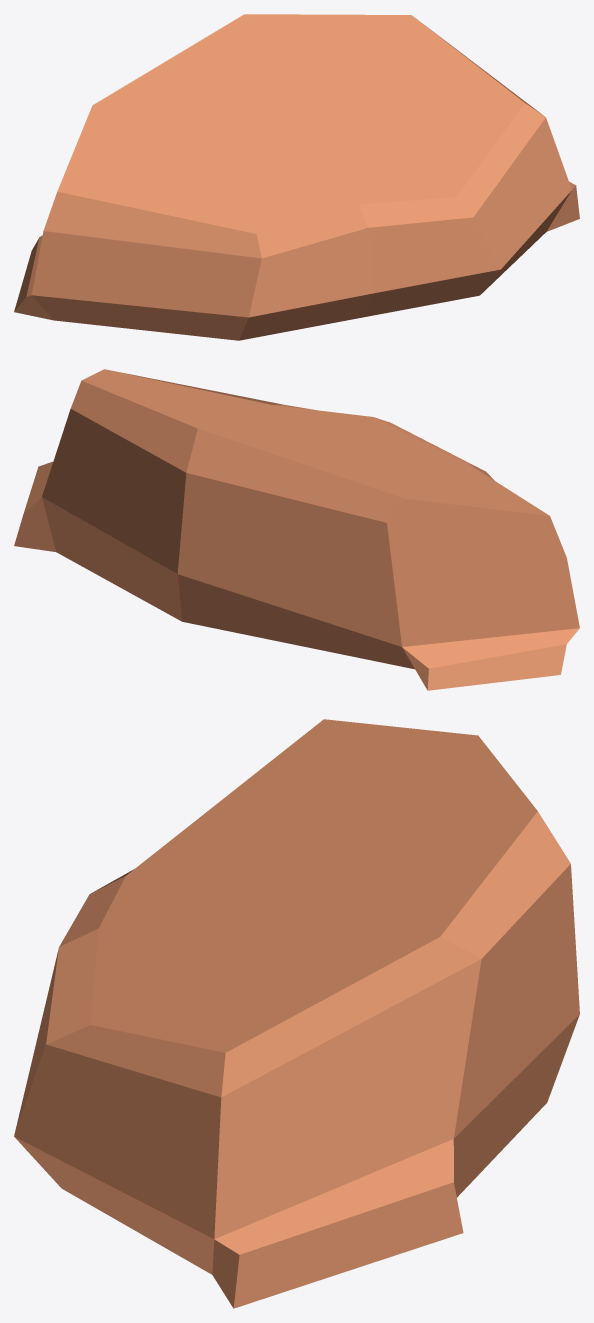
The model's file is Stone003.fbx.
3 renders of one model, top to bottom at view 1: azimuth 30°, elevation 25°; view 2: azimuth 150°, elevation 25°; view 3: azimuth 270°, elevation 25°, orthographic. The views are drawn at different scales.
Parts seen in each view (by area): view 1: Stone003; view 2: Stone003; view 3: Stone003.
Boxes of the visible parts, <box> form: Stone003: <box>14,14,579,340</box>; Stone003: <box>14,369,579,690</box>; Stone003: <box>14,719,579,1308</box>.
Bounding box in the file's own units: 3.01 × 1.07 × 1.77.
